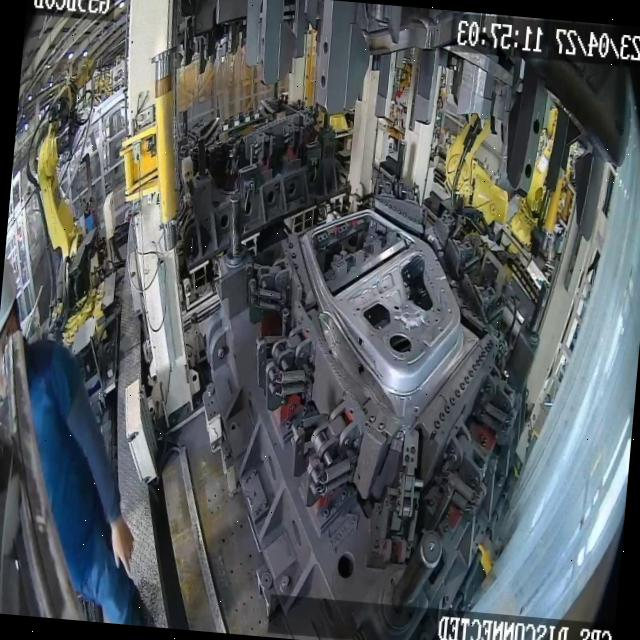Person: (0, 254, 186, 626)
